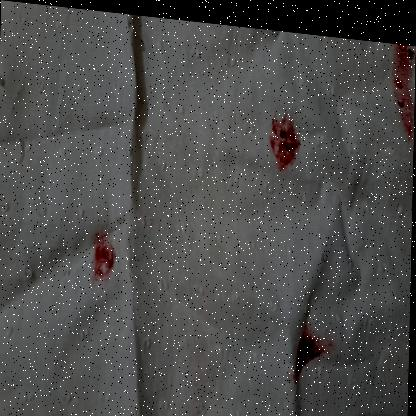spot: (289, 314, 334, 379), (390, 34, 416, 142), (263, 108, 304, 171), (90, 207, 117, 290)
